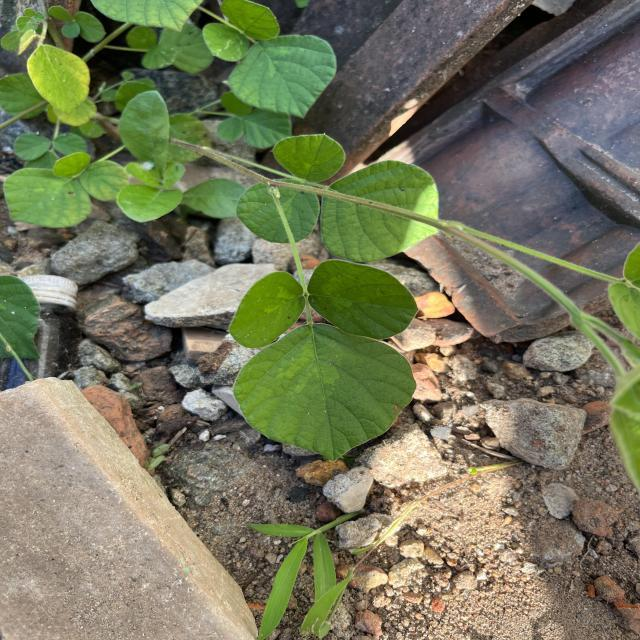Pseudarthria viscida: (227, 258, 421, 463), (235, 132, 440, 264)
